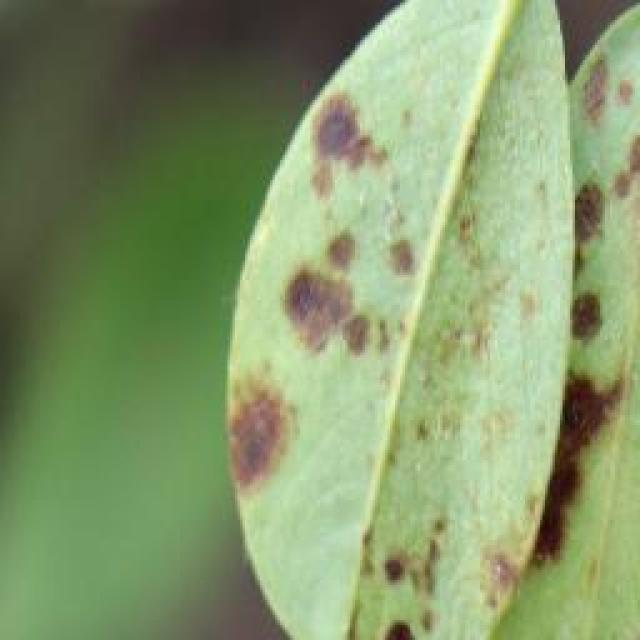Whitefly: (194, 25, 640, 638), (204, 51, 380, 514)
